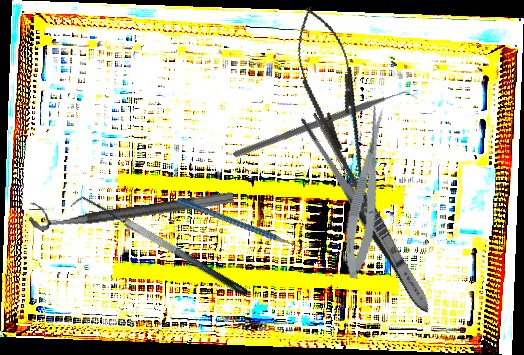Chopper: (232, 29, 420, 225), (176, 157, 315, 288)
Dressing Forceps: (294, 107, 439, 319)
Fixation Ring: (26, 173, 235, 234)
Micro Scissor: (337, 104, 396, 281)
Needle Holder: (282, 1, 391, 220)
Spatula Surgical: (70, 185, 250, 311)
